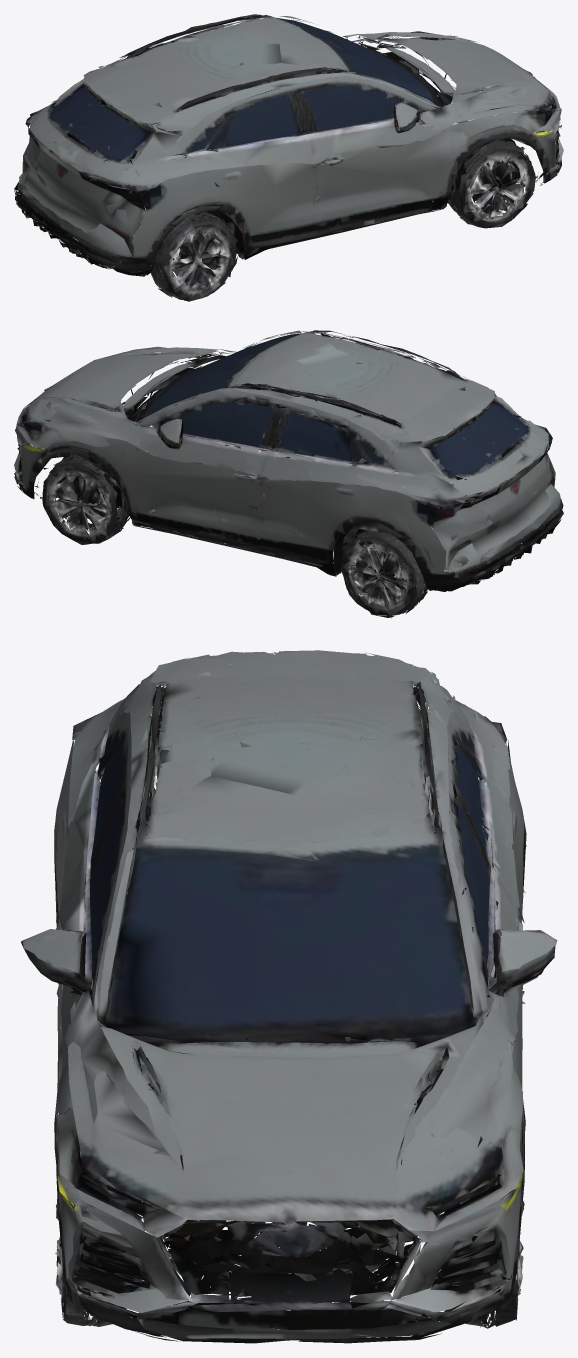
Rendered from driver_1790371336_12406256.glb.
3 views of the same model, one above another, from view 1: azimuth 30°, elevation 25°; view 2: azimuth 150°, elevation 25°; view 3: azimuth 270°, elevation 25° (orthographic). The views are drawn at different scales.
Parts seen in each view (by area): view 1: Hero; view 2: Hero; view 3: Hero.
Boxes of the visible parts, <box> form: Hero: <box>14,14,563,301</box>; Hero: <box>14,330,563,618</box>; Hero: <box>21,650,557,1343</box>.
Size of the model in its own units: 1.01 by 0.3761 by 0.4808.
1 material, 1 textured.
